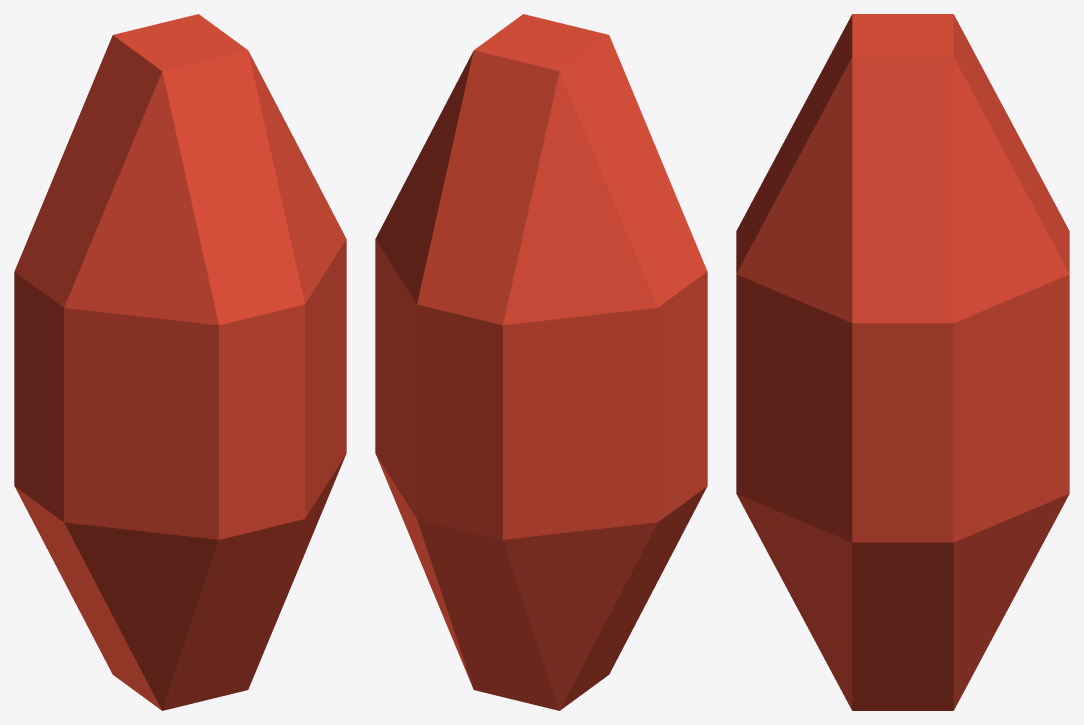
File: Stone_Fire.glb
3 renders of one model, left to right at view 1: azimuth 30°, elevation 25°; view 2: azimuth 150°, elevation 25°; view 3: azimuth 270°, elevation 25°, orthographic. The views are drawn at different scales.
Parts seen in each view (by area): view 1: Stone_Fire; view 2: Stone_Fire; view 3: Stone_Fire.
Boxes of the visible parts, x1,y1,x2,y2 form: Stone_Fire: (14,14,346,710); Stone_Fire: (375,14,707,710); Stone_Fire: (736,14,1069,710).
Bounding box in the file's own units: 1.54 × 3.33 × 1.54.
